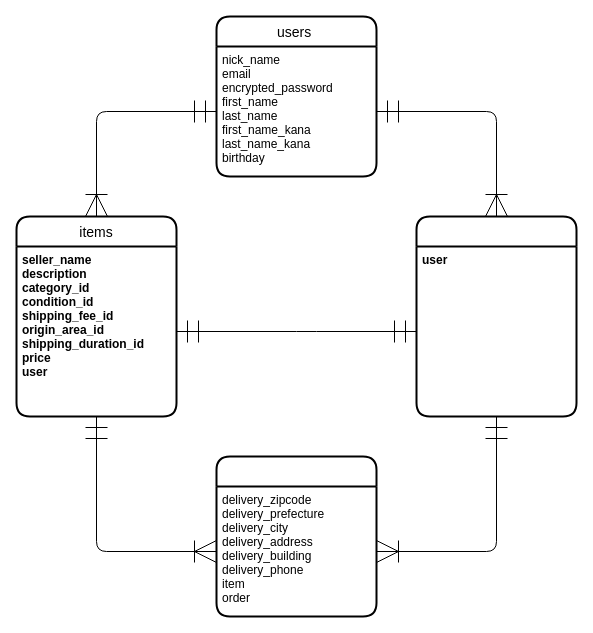
The diagram is 593 pixels wide and 633 high, and some of its shapes have lost their labels. Each missing label, with the box of its shape:
items_orders: (215, 455, 377, 617)
orders: (415, 215, 577, 417)
